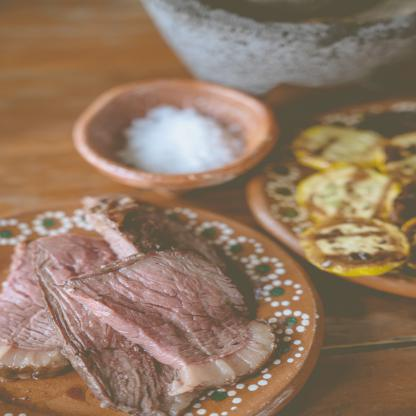Carne: (78, 250, 284, 382), (36, 223, 171, 396), (1, 225, 89, 365), (83, 196, 230, 258)
